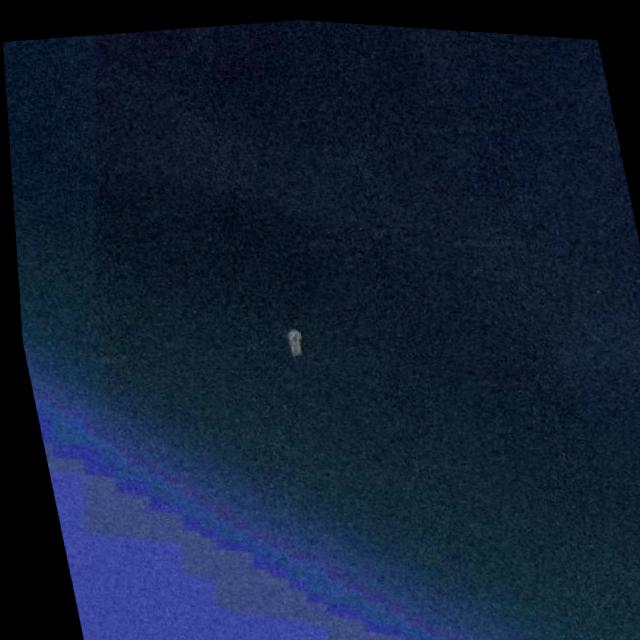ship2: (280, 323, 299, 352)
